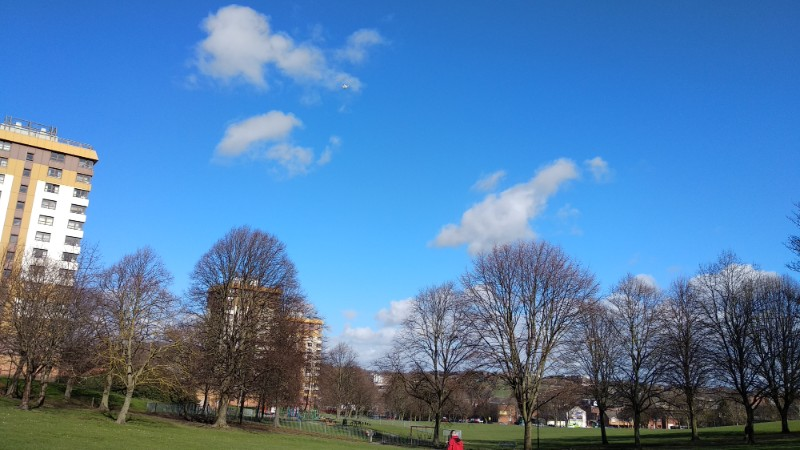drone: (340, 82, 349, 90)
